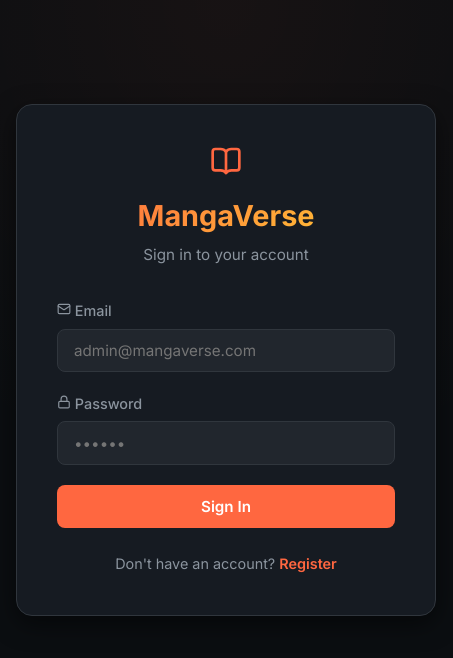
Scenario: Authentication Flows (Integration) › shows validation errors on empty login submit
Click the button "Sign In" at (226, 506), box [57,485,395,528]
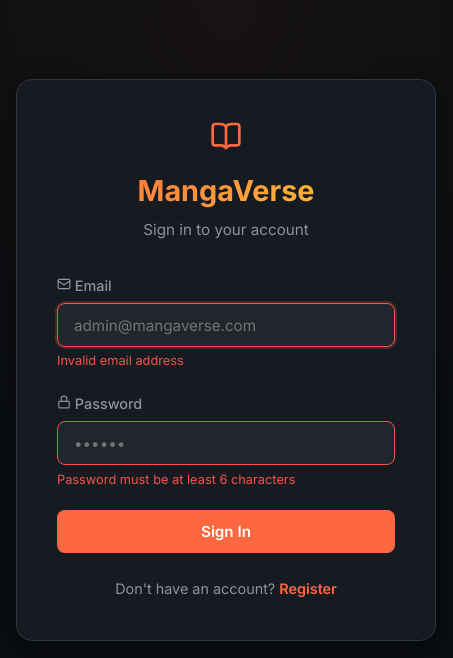
Expected: the text "Invalid email address" is shown, [57,354,184,368]
Expected: the text "Password must be at least 6 characters" is shown, [57,472,295,487]
